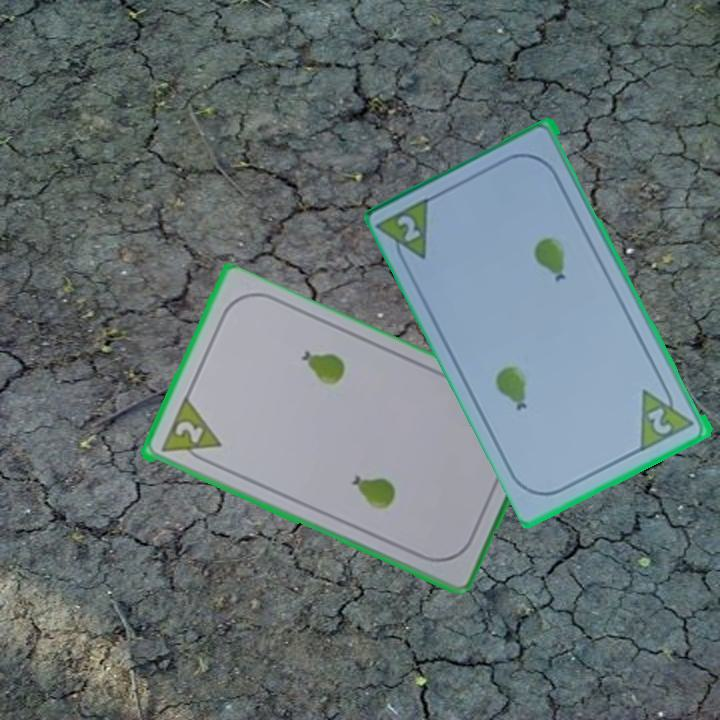2p: (156, 396, 224, 469), (644, 404, 676, 438), (394, 211, 425, 246)
